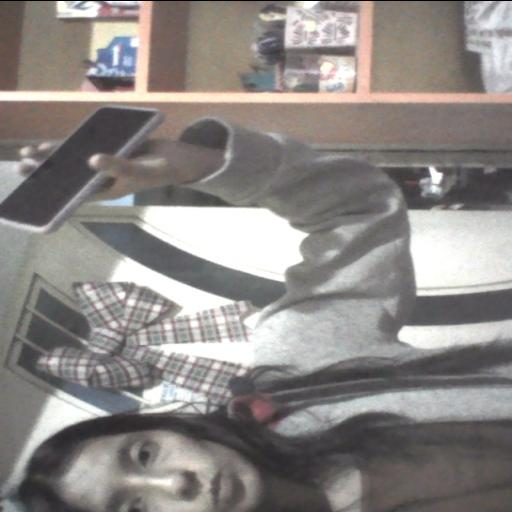phone: (0, 103, 171, 233)
